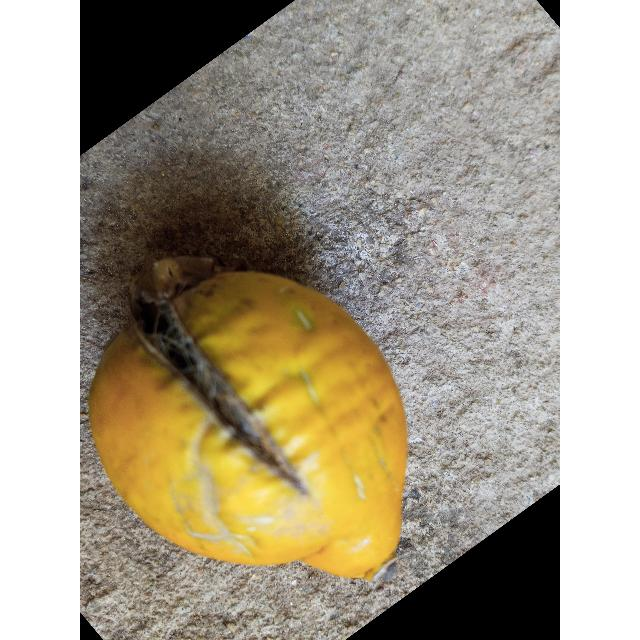damaged: (87, 257, 410, 583)
